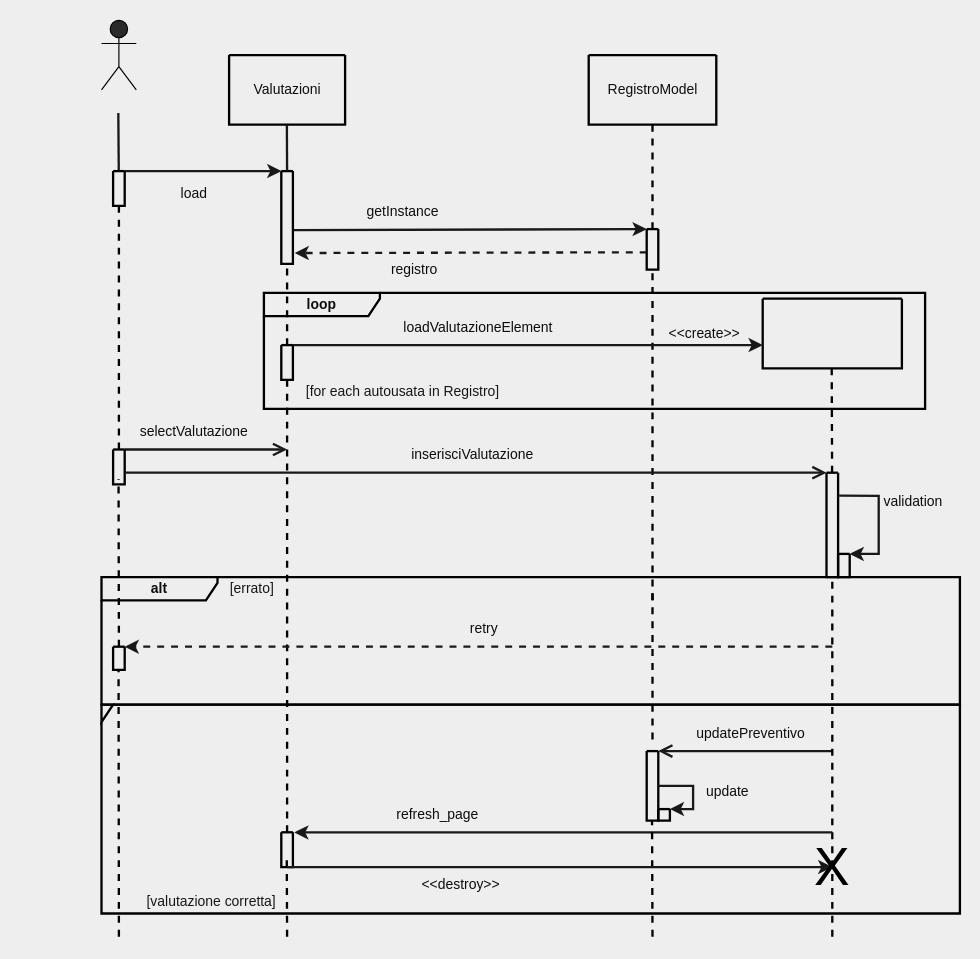
Image size: 980x959. Some labels were removed from this diagram. The centre of each missing label's shape, as x and y in pixels:
Impiegato: [118,54]
ValutazioneElement: [831,333]
